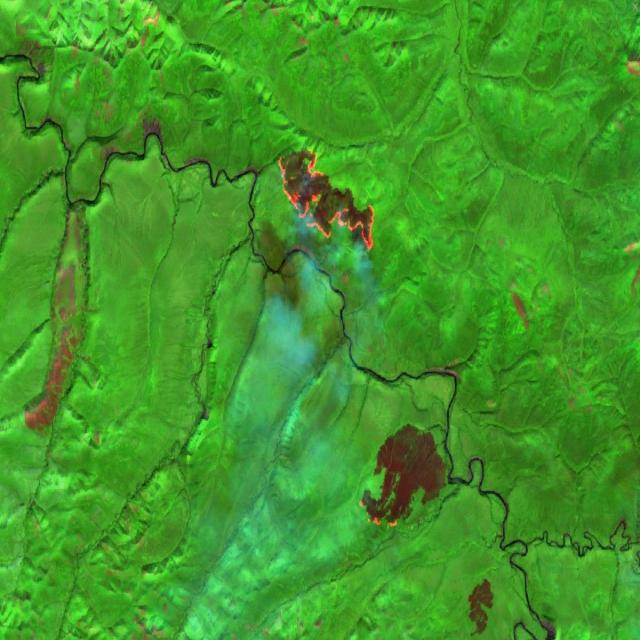fire: (276, 144, 378, 255)
